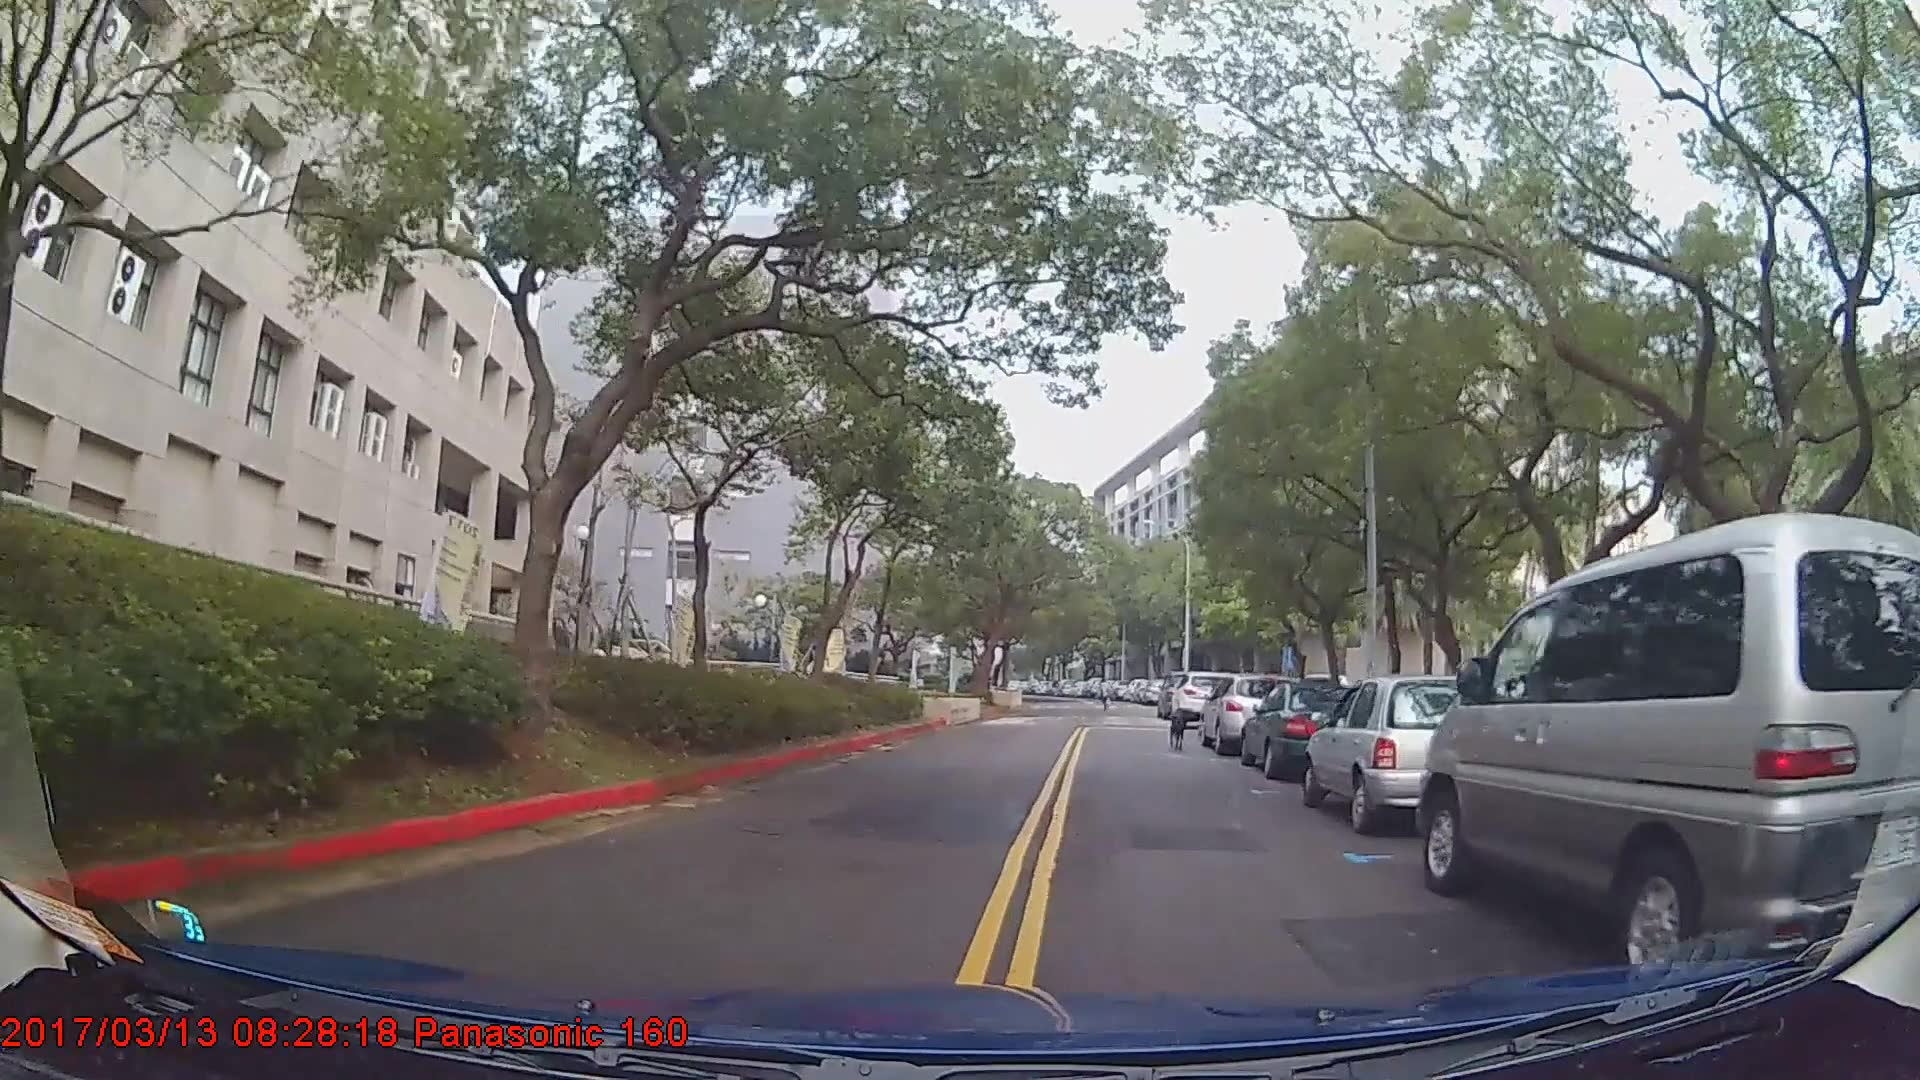vehicle: (1414, 502, 1920, 968), (1302, 674, 1513, 835), (1240, 678, 1378, 782), (1200, 674, 1295, 756), (1170, 670, 1236, 725)
